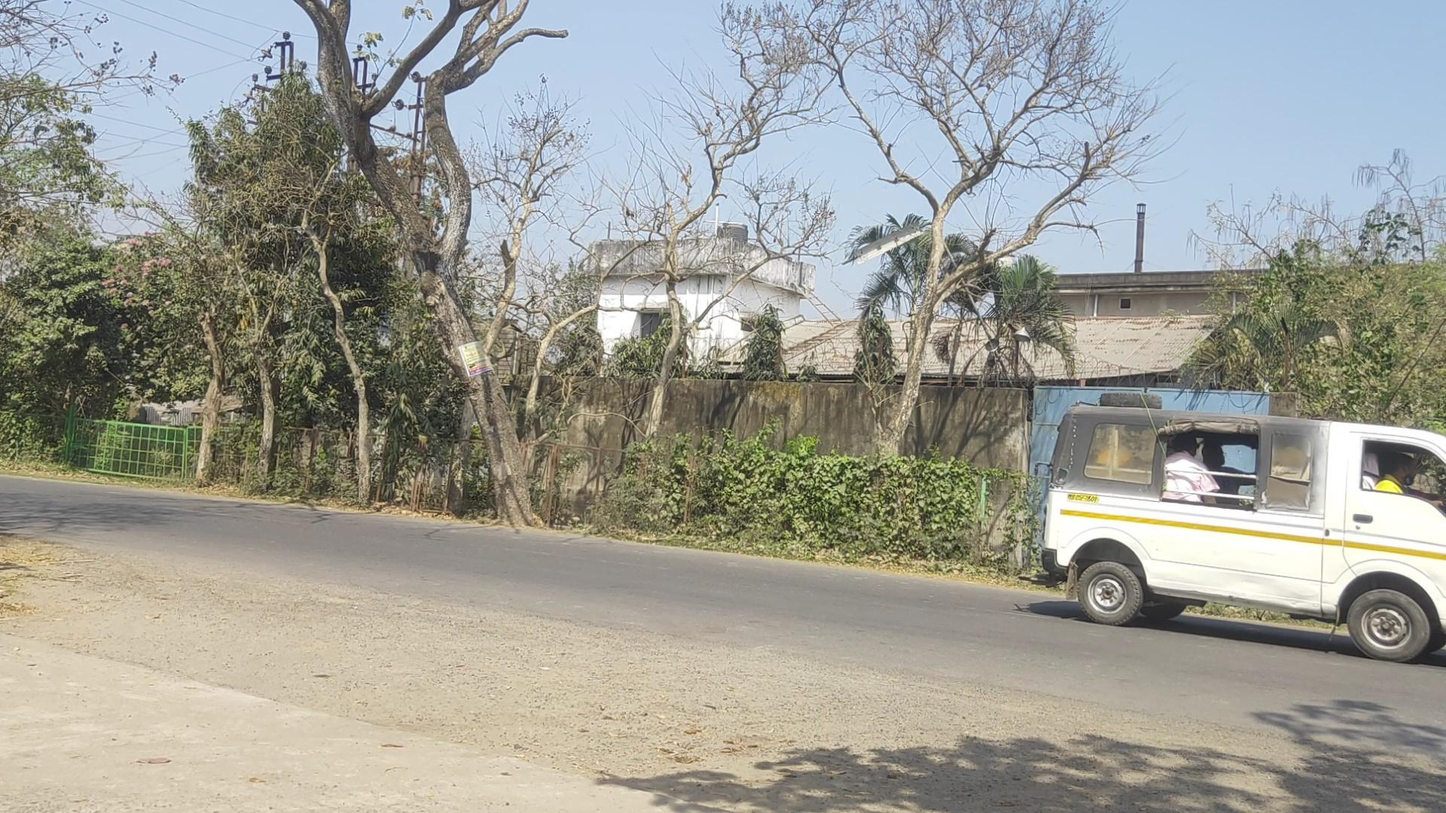van: (1019, 392, 1446, 663)
